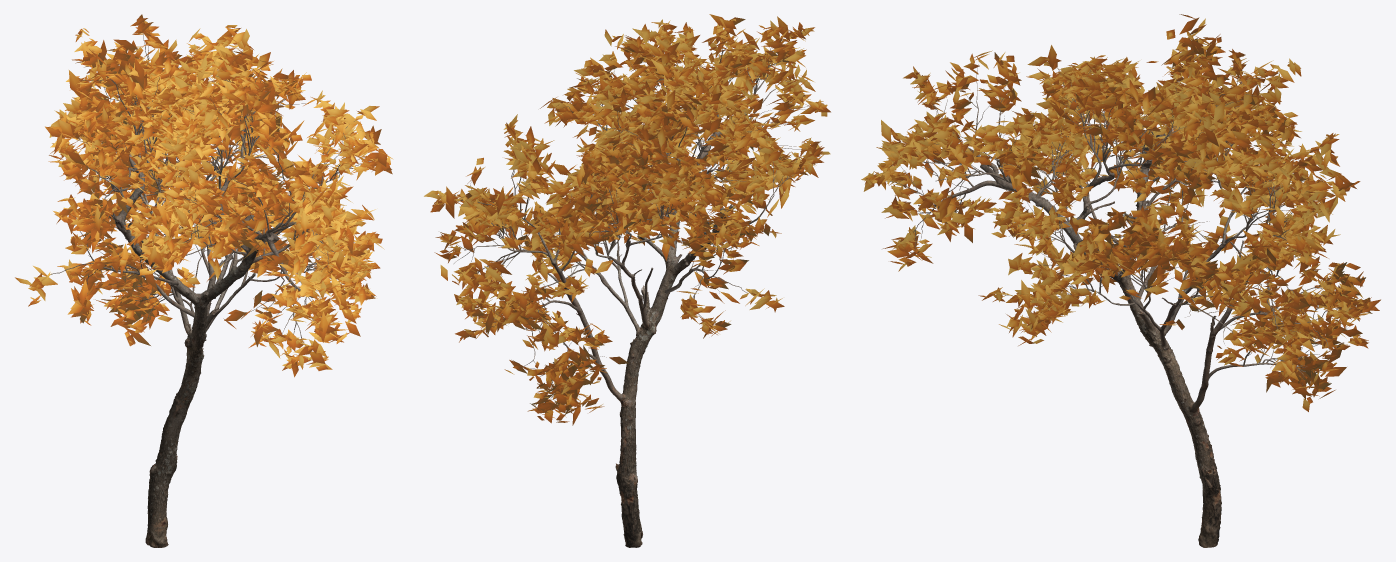
The model's file is tree.gltf.
3 views of the same model, side by side, from view 1: azimuth 30°, elevation 25°; view 2: azimuth 150°, elevation 25°; view 3: azimuth 270°, elevation 25° (orthographic). The views are drawn at different scales.
Visible parts, largest first — view 1: tree_small_02_LOD0; view 2: tree_small_02_LOD0; view 3: tree_small_02_LOD0.
Part boxes in pixels (x1,y1,x2,y2): tree_small_02_LOD0: (15,14,393,547); tree_small_02_LOD0: (424,14,830,547); tree_small_02_LOD0: (861,14,1380,547).
Size of the model in its own units: 3.04 by 4.59 by 4.39.
Materials: 3 (3 with a texture image).
